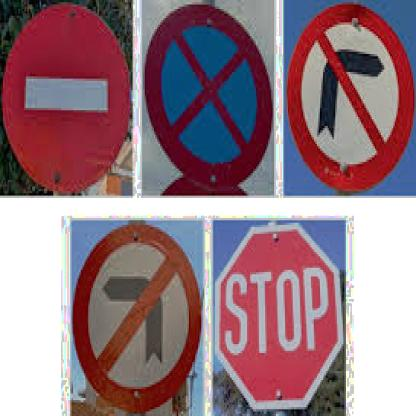No right turn: (283, 0, 416, 196)
